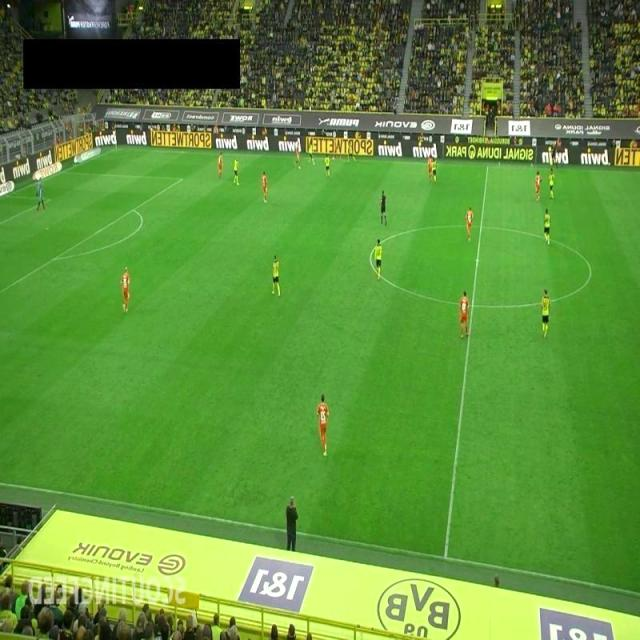bigarea_top_inner: (176, 174, 187, 185)
bigarea_top_outter: (60, 165, 70, 176)
bottom_arc_area_intersection: (48, 253, 58, 264)
corner: (111, 145, 122, 156)
halfcircle_bottom: (466, 298, 479, 311)
halfcircle_top: (475, 220, 488, 233)
midline_bottom_intersection: (438, 549, 452, 565)
midline_top_intersection: (482, 160, 493, 172)
smallarea_top_inner: (46, 193, 56, 204)
smallarea_top_outter: (0, 190, 11, 202)
top_arc_area_intersection: (128, 204, 139, 216)
